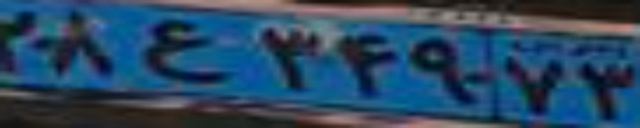2: (0, 9, 38, 74)
3: (257, 26, 322, 90), (577, 59, 637, 120)
4: (332, 32, 399, 95)
7: (503, 56, 563, 115)
8: (49, 11, 118, 76)
9: (408, 37, 481, 103)
ain: (143, 19, 232, 85)
